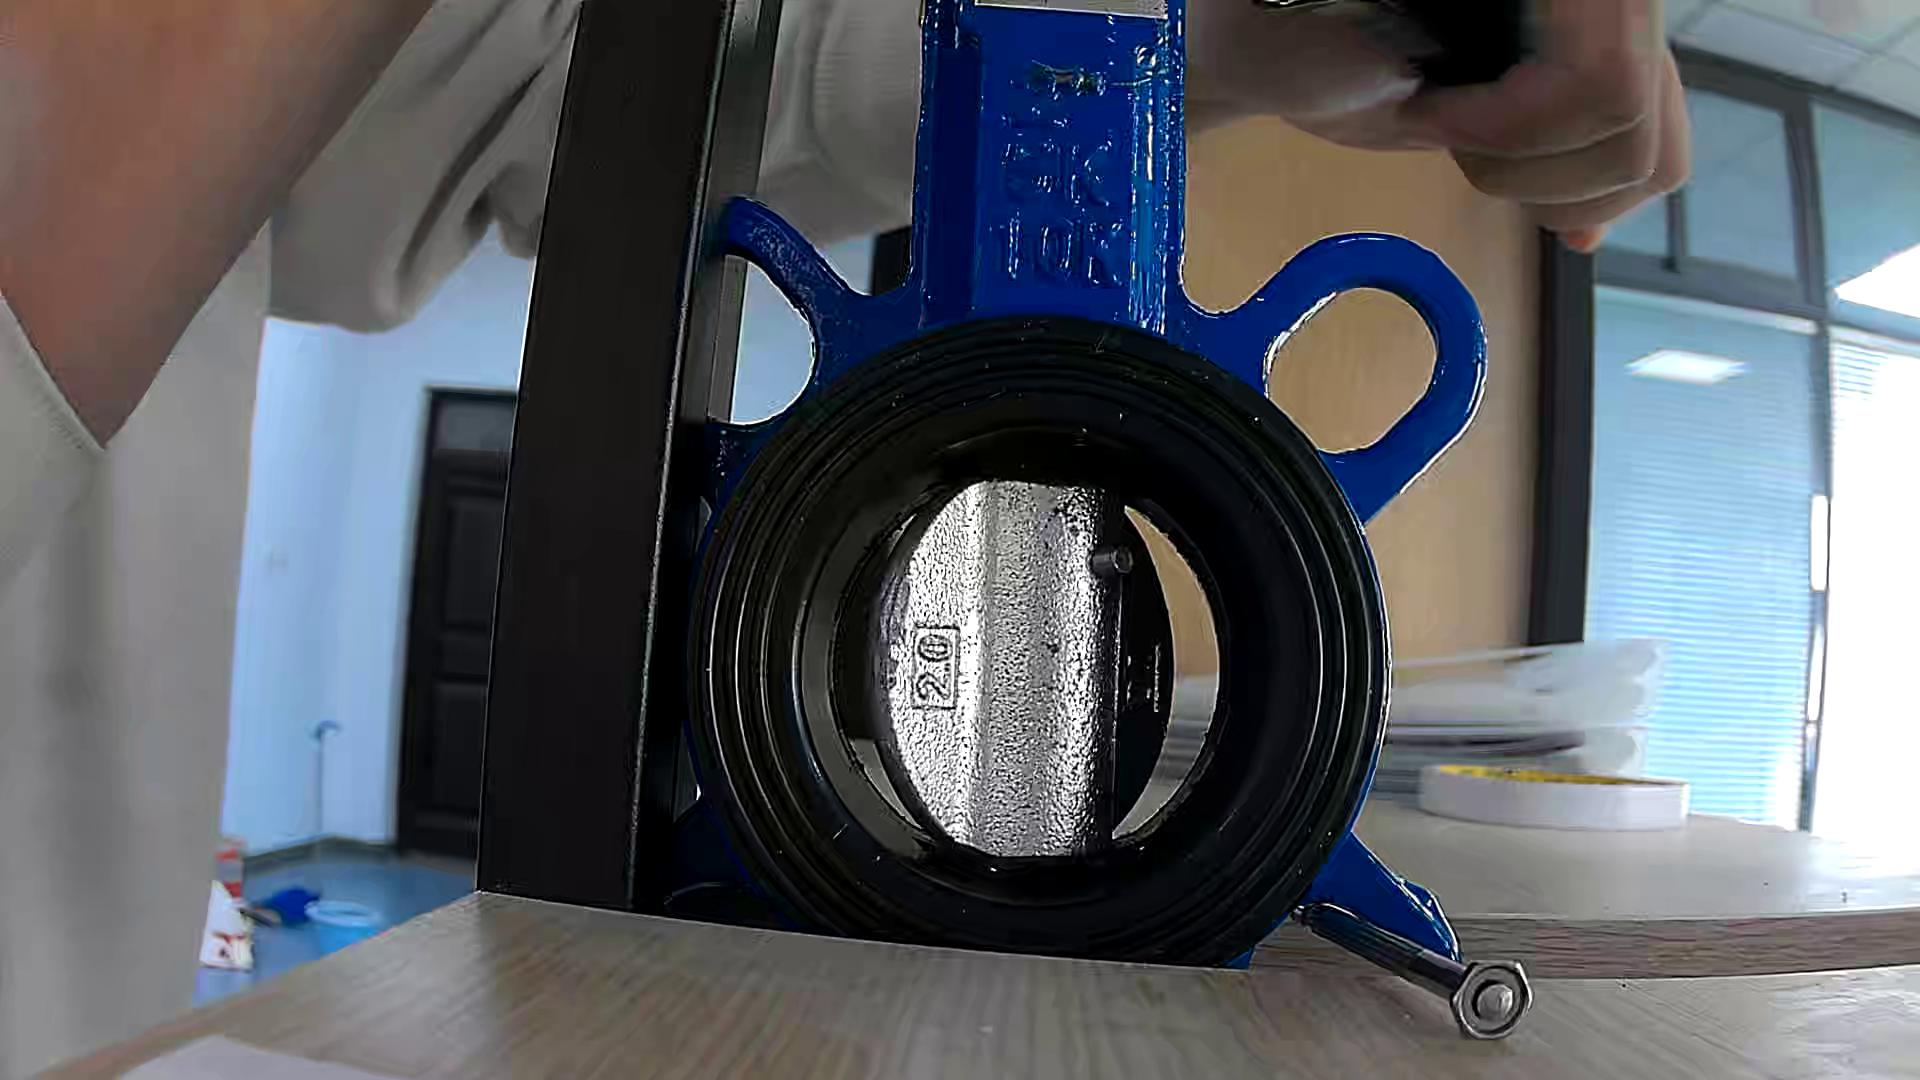valve: (872, 480, 1175, 858)
